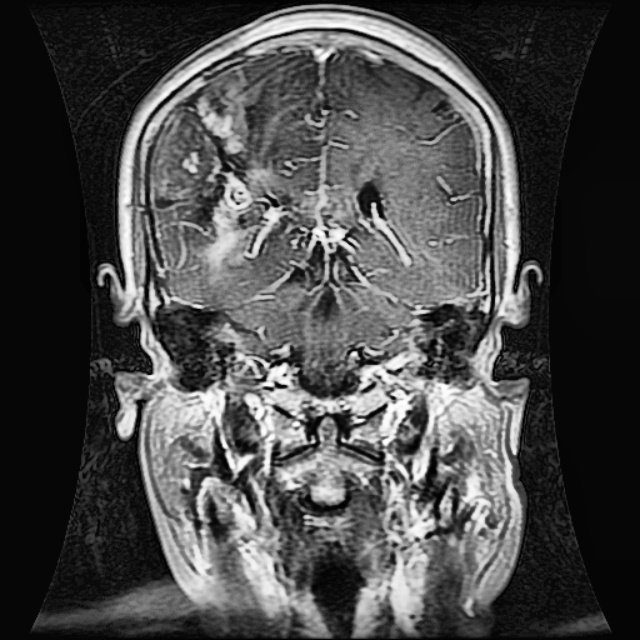Meningioma: (153, 75, 295, 265)
